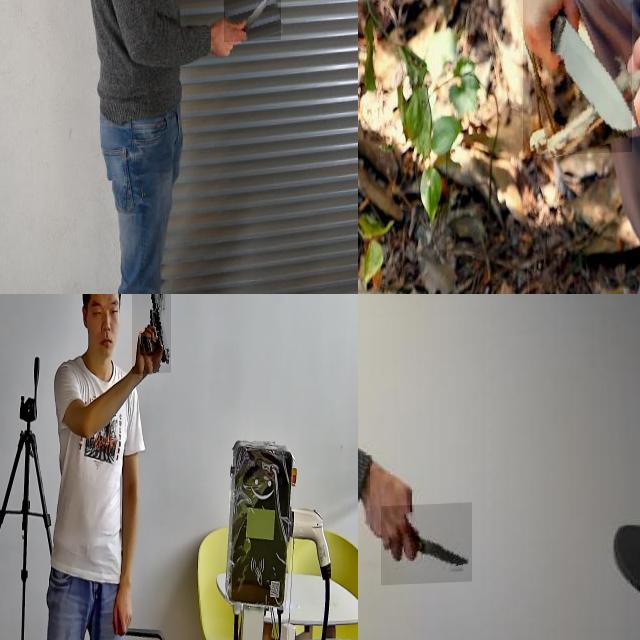-: (523, 0, 632, 158), (381, 506, 472, 588), (224, 0, 281, 45)
gun-knife-thesis - v11 Yolov5 augmented: (132, 294, 170, 378)
